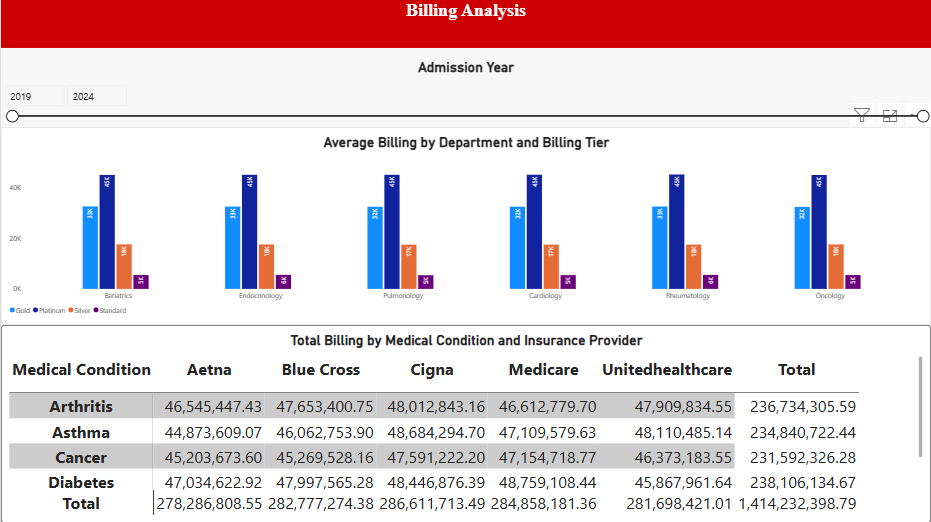

This screenshot's page, from the dashboard's own definition file:
{"tool":"powerbi","page":{"name":"Billing Analysis","canvas":[1920,1080],"ordinal":3},"visuals":[{"type":"textbox","box":[0,0,1920,99.1],"z":0},{"type":"clusteredColumnChart","title":"Average Billing by Department and Billing Tier","fields":{"Category":["healthcare_dataset.Department"],"Series":["healthcare_dataset.Billing_Tier"],"Y":["Avg(healthcare_dataset.Billing_Amount_Fixed)"]},"box":[0,262.5,1920,409.2],"z":1},{"type":"pivotTable","title":"Total Billing by Medical Condition and Insurance Provider","fields":{"Columns":["healthcare_dataset.Insurance Provider"],"Rows":["healthcare_dataset.Medical Condition"],"Values":["Sum(healthcare_dataset.Billing_Amount_Fixed)"]},"box":[0,671.7,1920,409.2],"z":2},{"type":"slicer","title":"Admission Year","fields":{"Values":["healthcare_dataset.Admission_Year"]},"box":[0,121,1920,150],"z":3}]}

Visuals, with their boxes in screenshot pixels (x1, y1, x2, y2), scaled from the page's 1920x1080 canvas onto the 931x522 screenshot:
textbox: [0,0,930,48]
"Average Billing by Department and Billing Tier" clusteredColumnChart: [0,127,930,325]
"Total Billing by Medical Condition and Insurance Provider" pivotTable: [0,325,930,521]
"Admission Year" slicer: [0,58,930,131]
